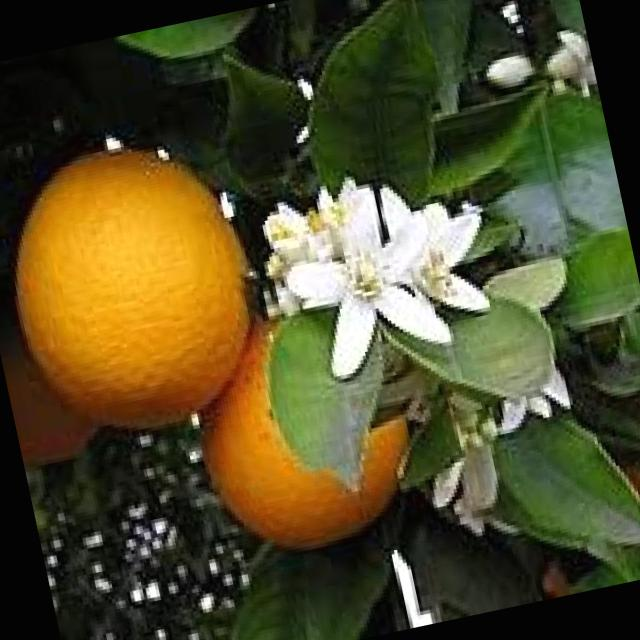Orange: (0, 122, 279, 449), (174, 281, 430, 567)
